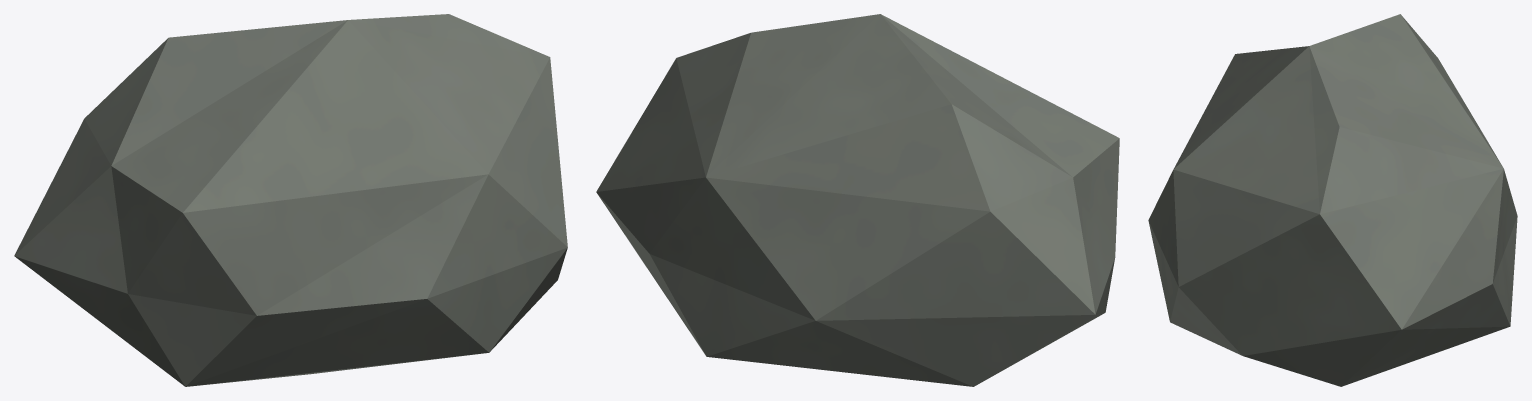
Rendered from NA_Rock_4.glb.
3 views of the same model, side by side, from view 1: azimuth 30°, elevation 25°; view 2: azimuth 150°, elevation 25°; view 3: azimuth 270°, elevation 25° (orthographic). The views are drawn at different scales.
Visible parts, largest first — view 1: NA_Rock_4; view 2: NA_Rock_4; view 3: NA_Rock_4.
Part boxes in pixels (box(x1,y1,x2,y2)): NA_Rock_4: box(14, 14, 567, 386); NA_Rock_4: box(596, 14, 1119, 386); NA_Rock_4: box(1148, 14, 1517, 386).
Bounding box in the file's own units: 1.36 × 0.7684 × 0.9529.
Materials: 1 (1 with a texture image).
